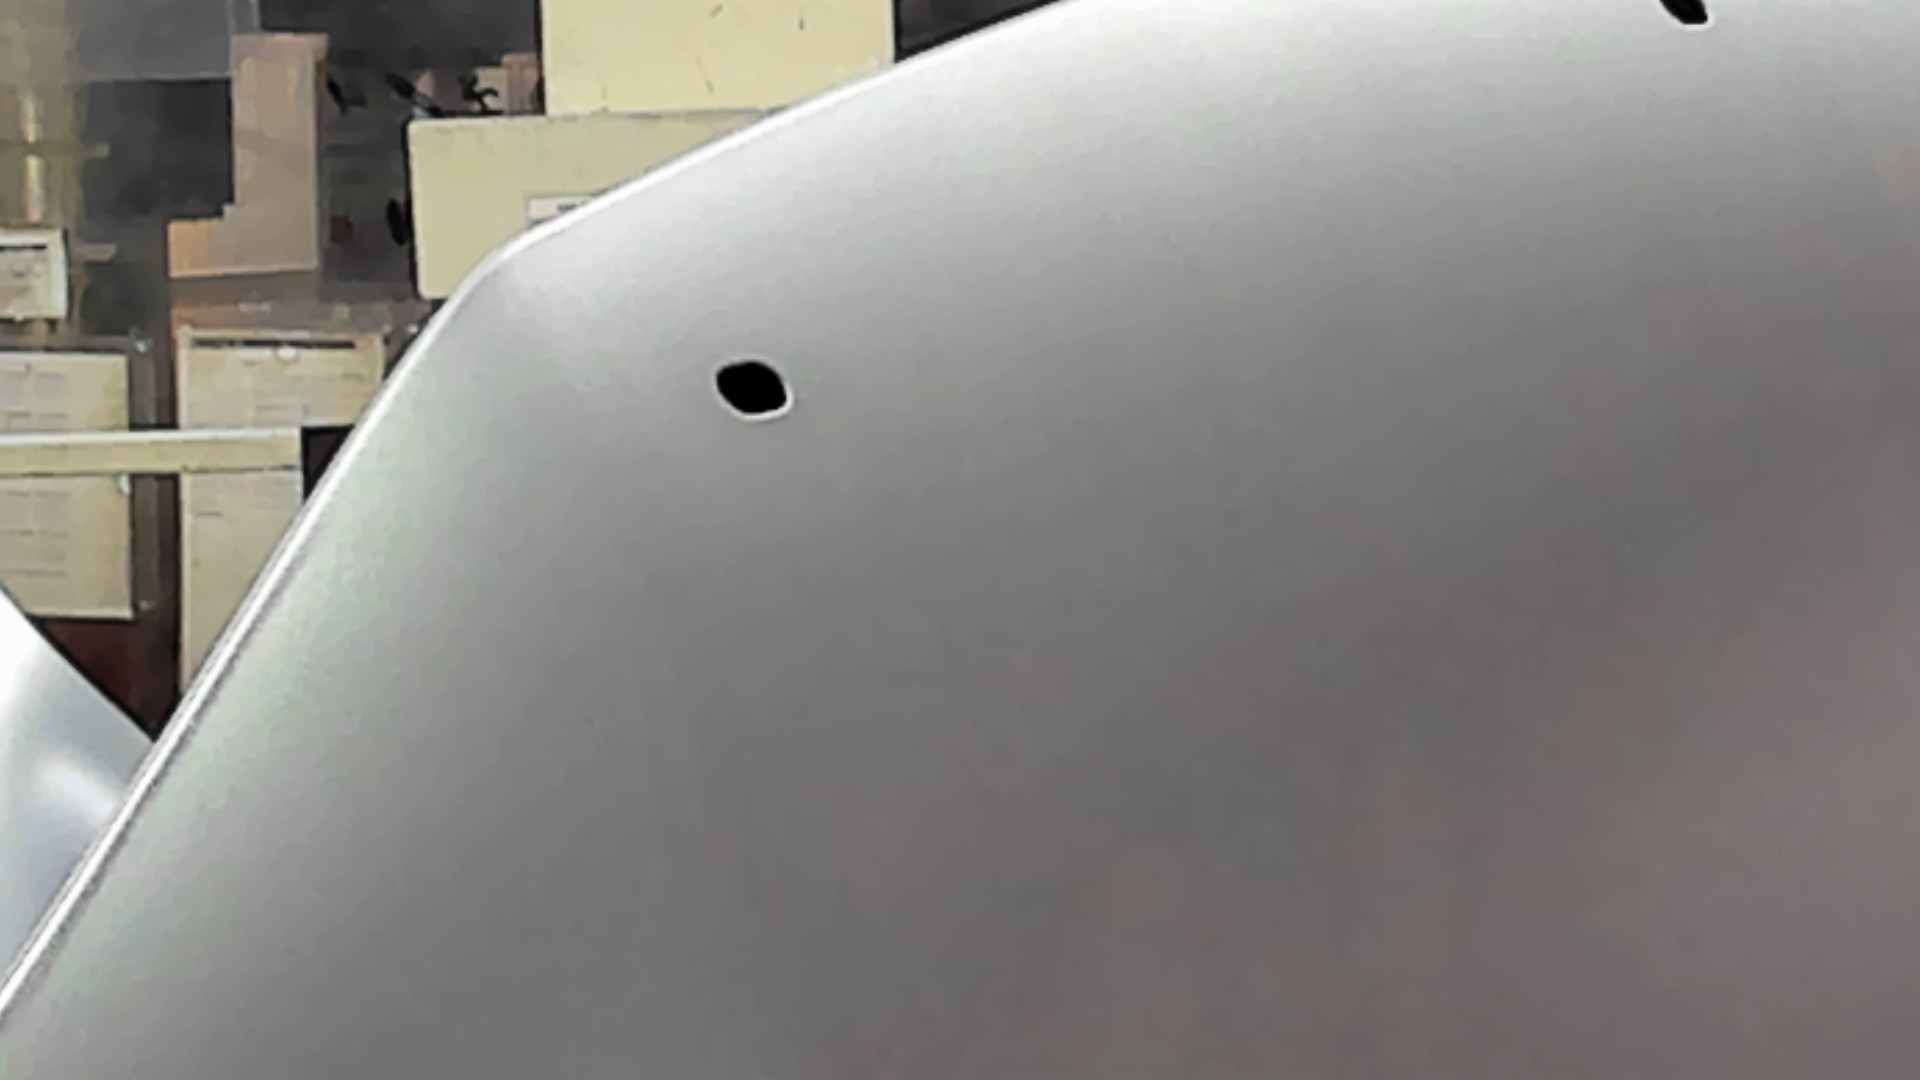amorfo: (709, 356, 796, 423), (1658, 1, 1718, 32)
